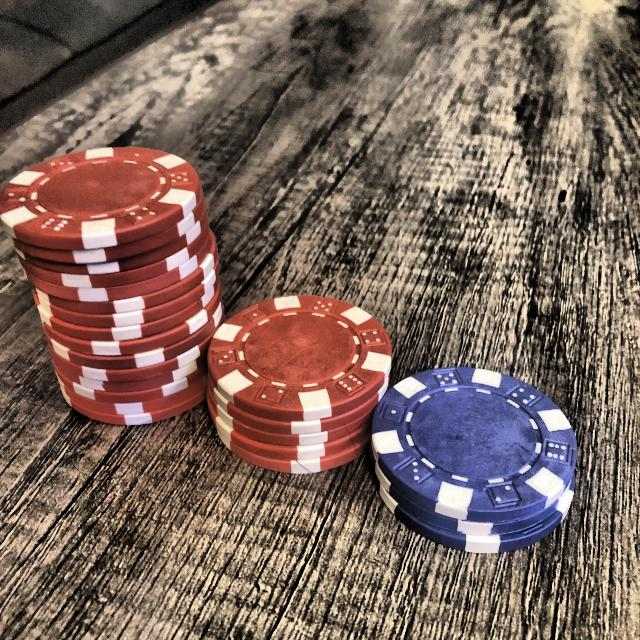Chip: (1, 144, 225, 428), (368, 366, 579, 556), (205, 294, 393, 473)
